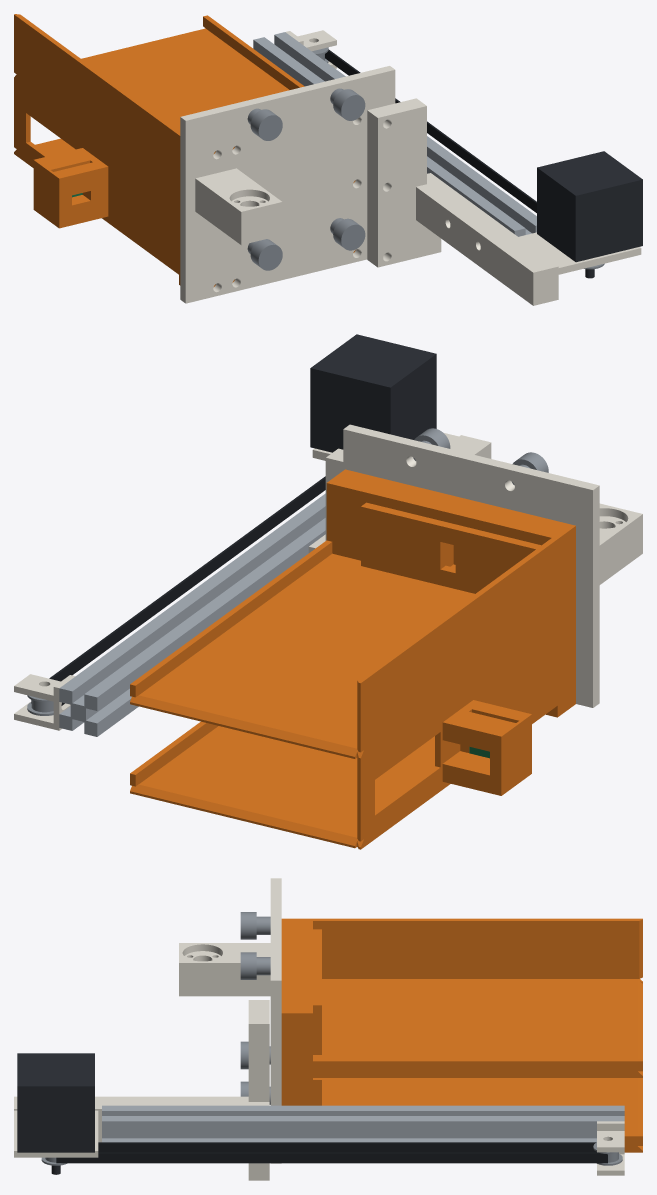
The model's file is robot_lift.glb.
The picture shows the model from 3 angles, top to bottom: view 1: azimuth 30°, elevation 25°; view 2: azimuth 150°, elevation 25°; view 3: azimuth 270°, elevation 25°; orthographic projection. The views are drawn at different scales.
Visible parts, largest first — view 1: robot_lift (×6); view 2: robot_lift (×6); view 3: robot_lift (×6).
Boxes of the visible parts, box(x1,y1,x2,y2) form: robot_lift (×6): box(14, 14, 642, 305); robot_lift (×6): box(14, 334, 642, 849); robot_lift (×6): box(14, 878, 642, 1180).
Size of the model in its own units: 0.2301 by 0.11 by 0.343.
